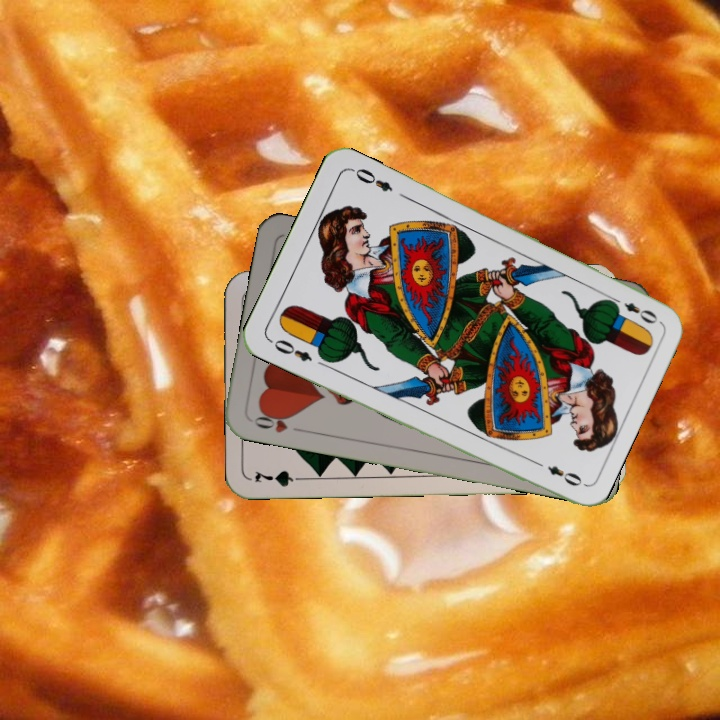EO: (606, 292, 661, 327), (270, 335, 315, 364)
G7: (250, 466, 309, 489)
HO: (248, 406, 306, 436)
